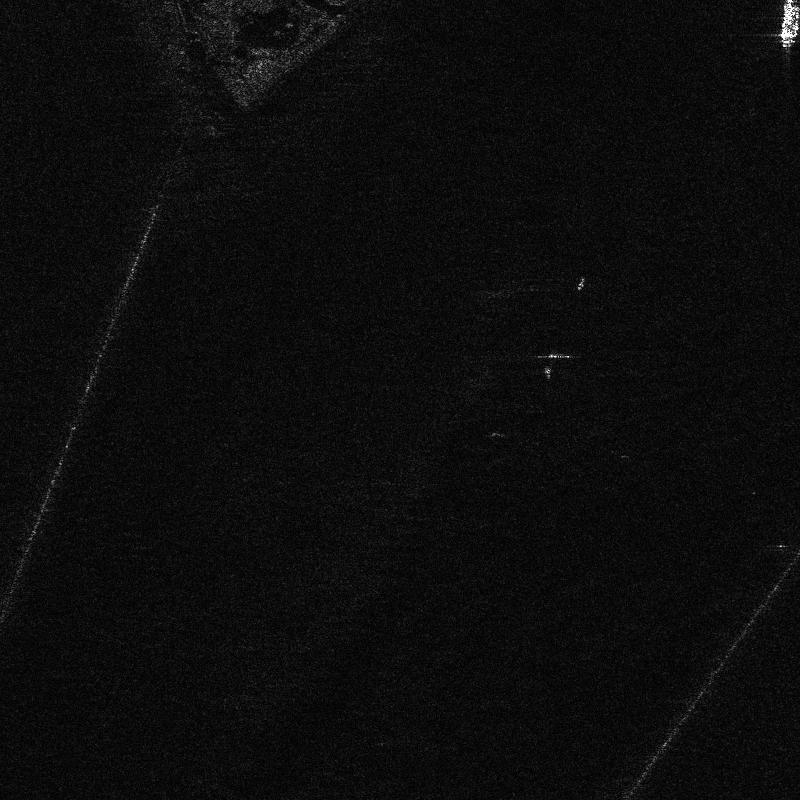ship: (780, 0, 799, 48)
